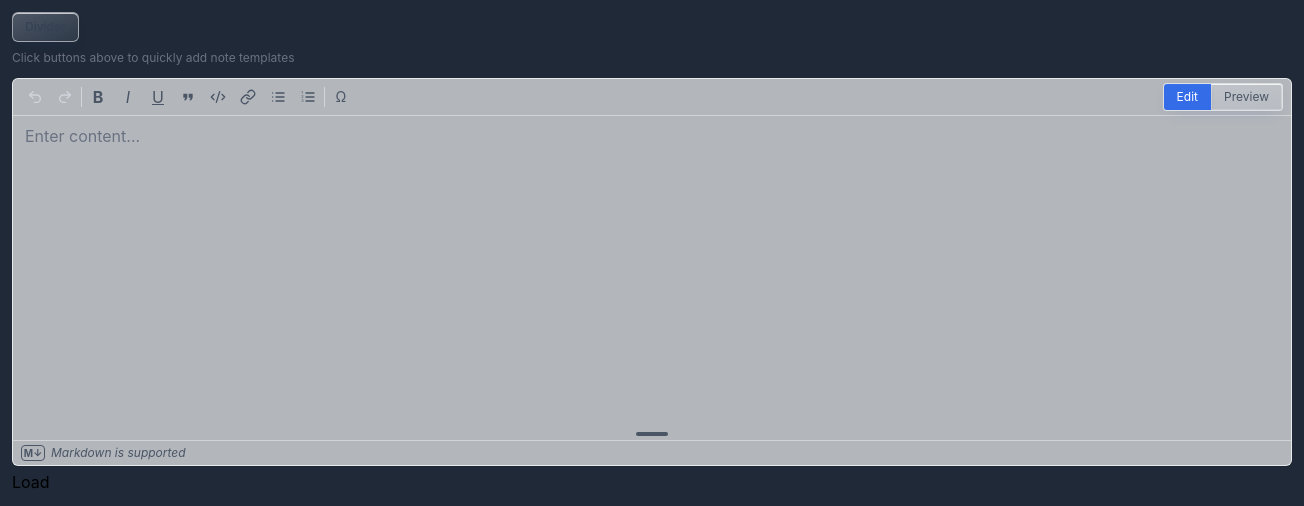
MarkdownEditorField undo / redo › undoes and redoes a format button as a single step
The width and height of the screenshot is (1304, 506).
Click the button named "Bold" at x=98, y=97, box top-left (84, 83), bottom-right (112, 111)
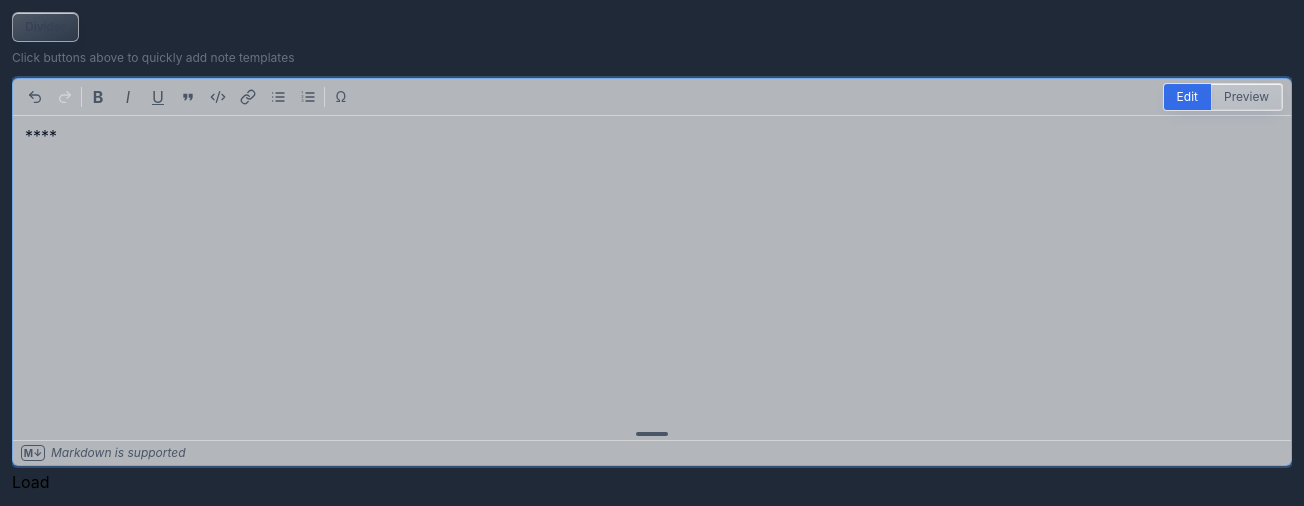
Expected: the button named "Redo" is disabled, top-left (51, 83), bottom-right (79, 111)
Result: the text box holds "****"
Result: the button named "Undo" is enabled
Click the button named "Undo" at x=35, y=97, box top-left (21, 83), bottom-right (49, 111)
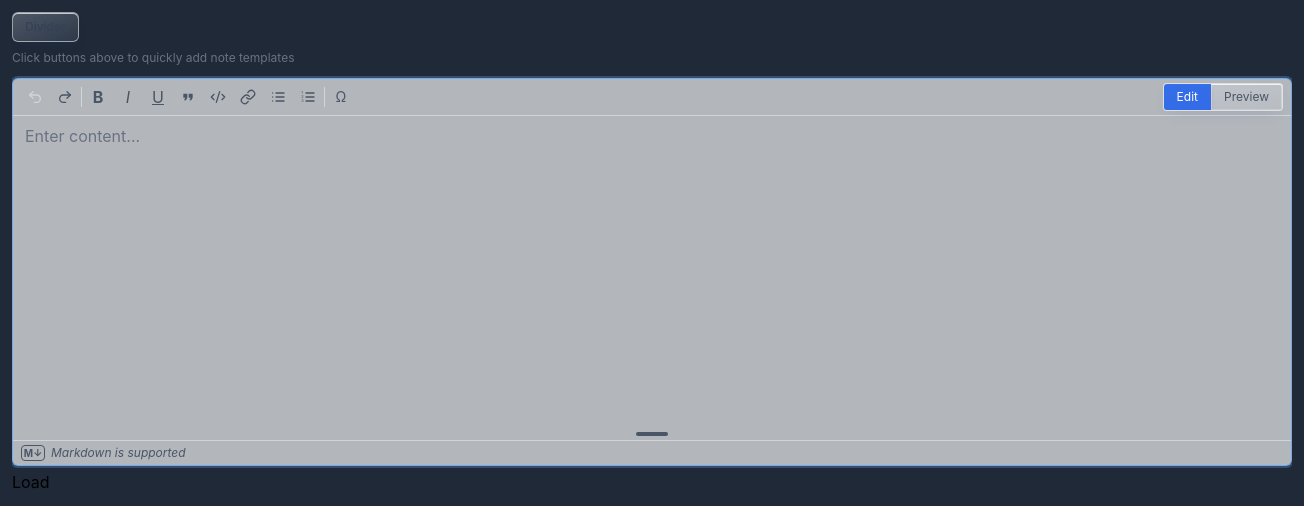
Result: the text box is empty
Result: the button named "Undo" is disabled at top-left (21, 83), bottom-right (49, 111)
Result: the button named "Redo" is enabled
Click the button named "Redo" at x=65, y=97, box top-left (51, 83), bottom-right (79, 111)
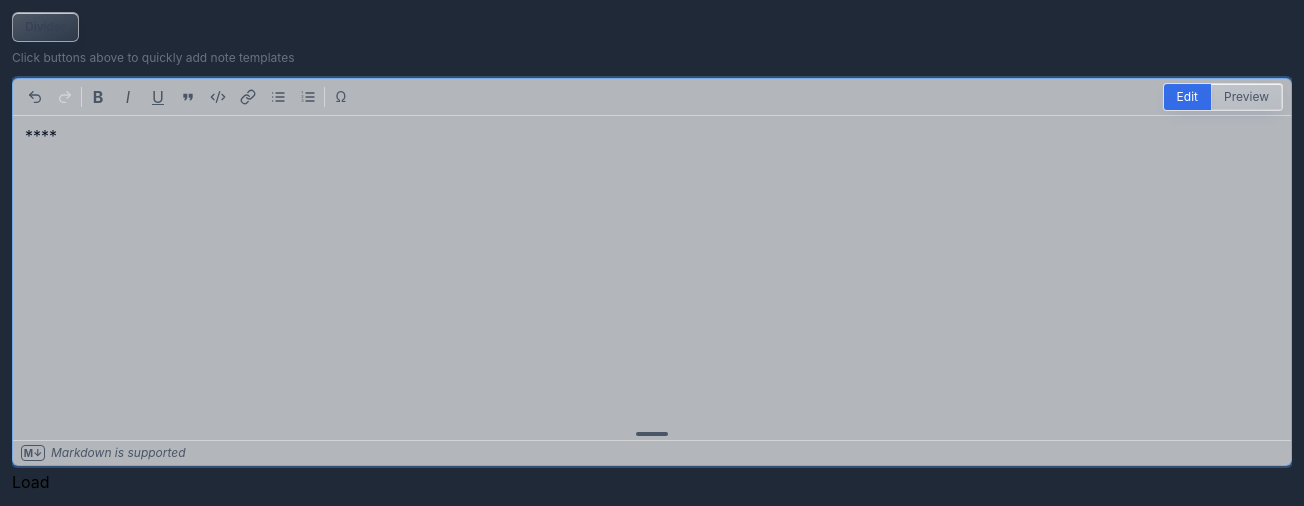
Result: the text box holds "****"
Result: the button named "Undo" is enabled at top-left (21, 83), bottom-right (49, 111)
Result: the button named "Redo" is disabled at top-left (51, 83), bottom-right (79, 111)
